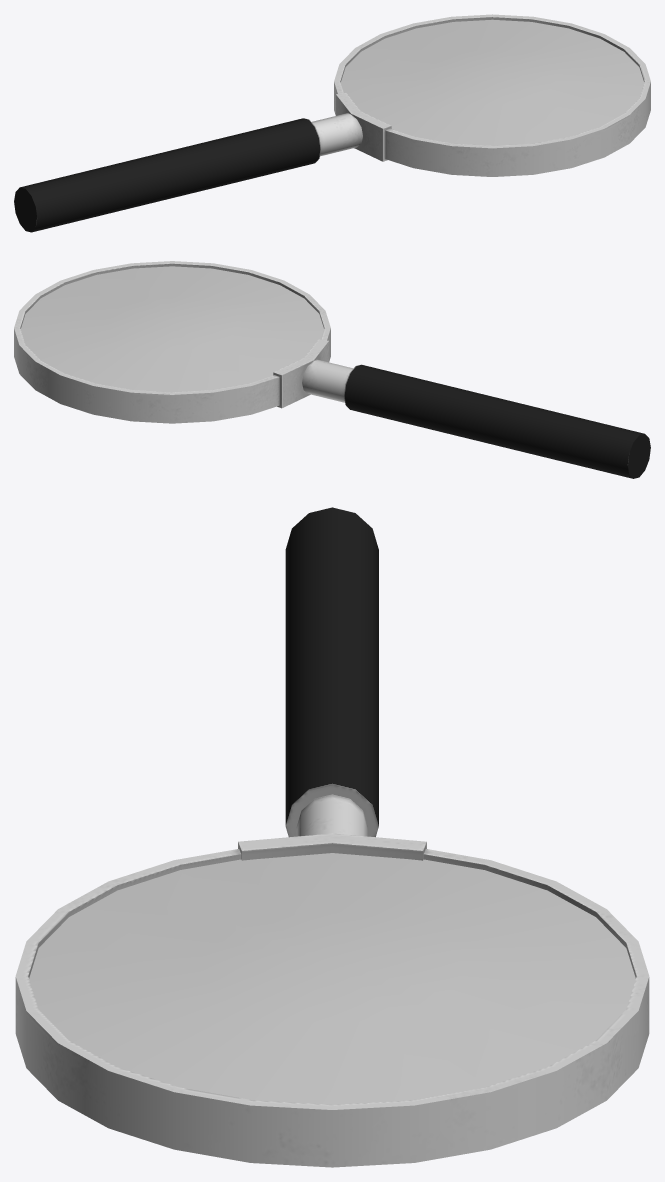
Rendered from SM_MagnifyingGlass_01.fbx.
The picture shows the model from 3 angles, top to bottom: view 1: azimuth 30°, elevation 25°; view 2: azimuth 150°, elevation 25°; view 3: azimuth 270°, elevation 25°; orthographic projection. The views are drawn at different scales.
Parts seen in each view (by area): view 1: SM_MagnifyingGlass_01_LOD0; view 2: SM_MagnifyingGlass_01_LOD0; view 3: SM_MagnifyingGlass_01_LOD0.
Boxes of the visible parts, x1,y1,x2,y2 form: SM_MagnifyingGlass_01_LOD0: (14,14,650,232); SM_MagnifyingGlass_01_LOD0: (14,261,650,478); SM_MagnifyingGlass_01_LOD0: (15,507,649,1167).
Bounding box in the file's own units: 22.01 × 10 × 1.52.
